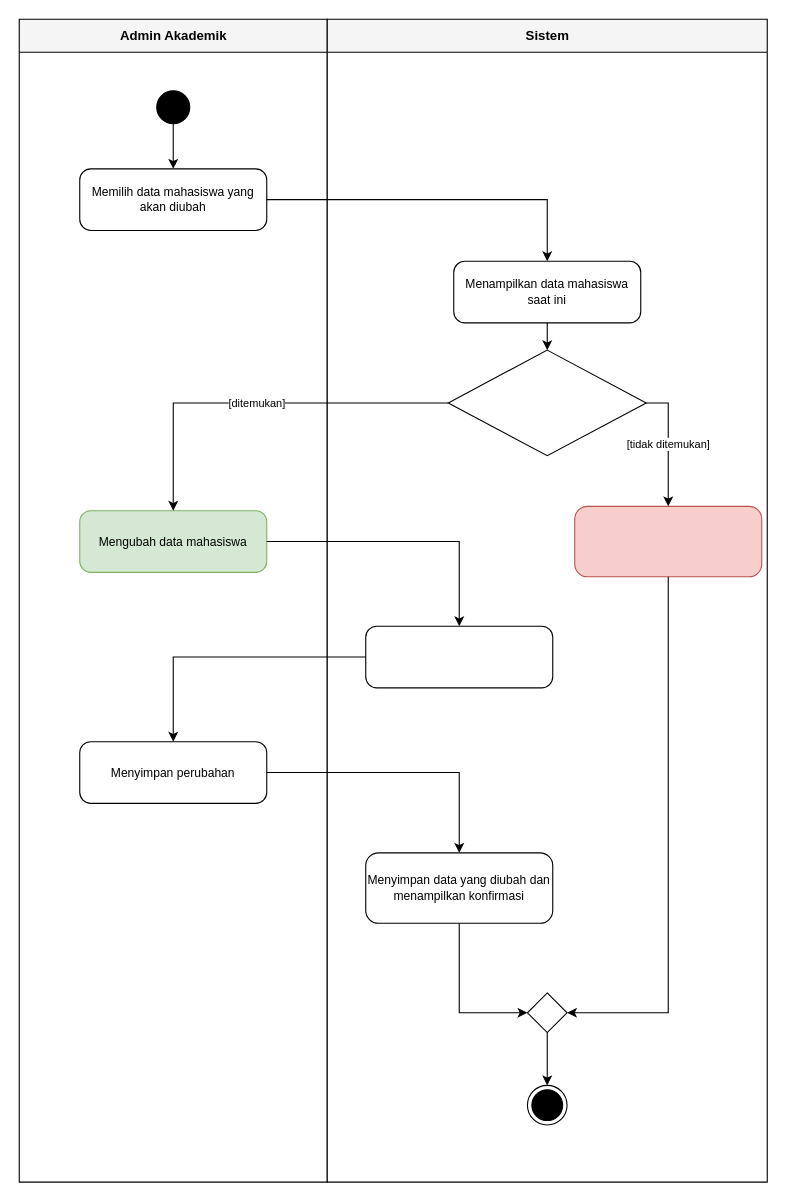
Image size: 787x1202. Some labels were removed from this diagram. The box of each missing label's shape, as (x1, y1, x2, y2) in pixels:
Data mahasiswa ditemukan?: (447, 349, 646, 456)
Memeriksa perubahan data mahasiswa: (365, 625, 553, 688)
Menampilkan pesan data mahasiswa tidak ditemukan: (574, 505, 762, 577)
